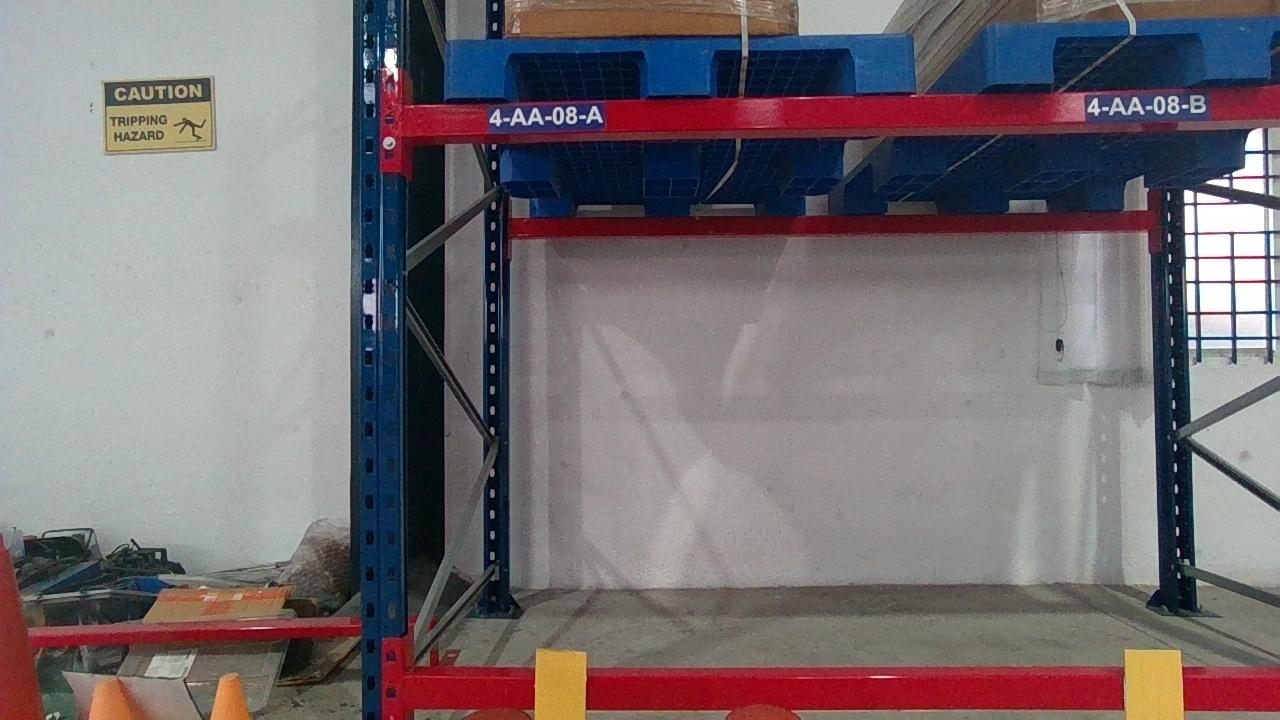h_rack: (398, 86, 1279, 136), (411, 668, 1277, 711)
orange_strip: (1122, 648, 1185, 719), (532, 648, 587, 719)
small_pallet: (443, 32, 914, 93), (987, 16, 1279, 80)
